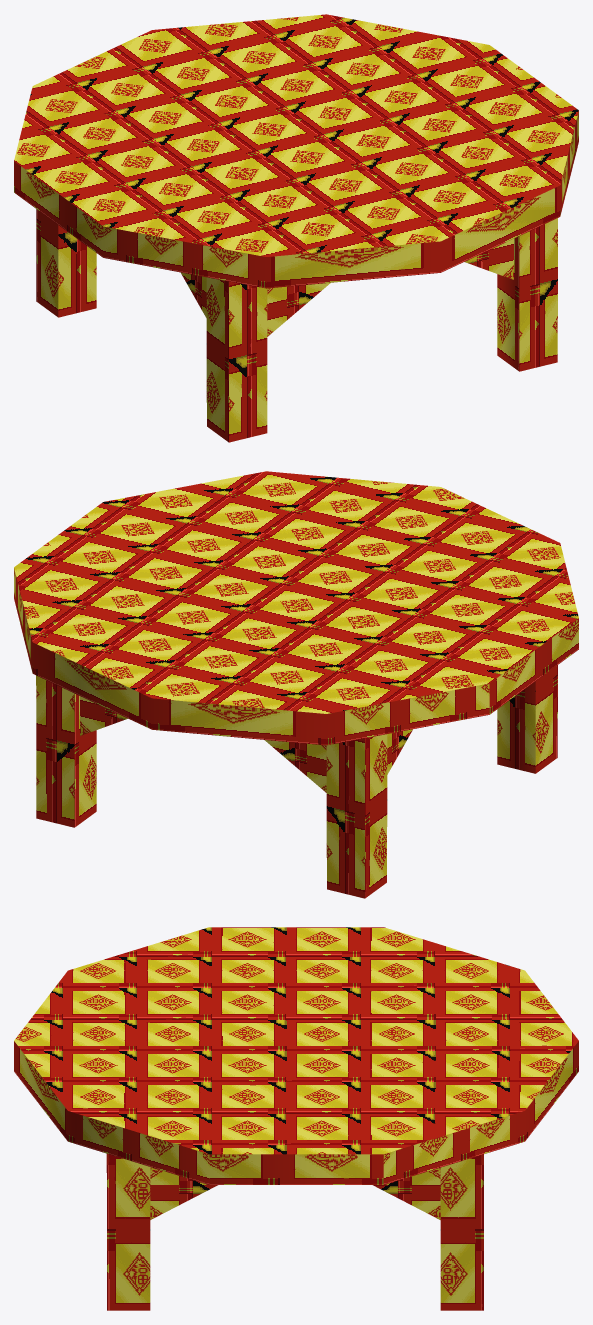
The picture shows the model from 3 angles, top to bottom: view 1: azimuth 30°, elevation 25°; view 2: azimuth 150°, elevation 25°; view 3: azimuth 270°, elevation 25°; orthographic projection. The views are drawn at different scales.
Visible parts, largest first — view 1: 3590kg_09_ta0; view 2: 3590kg_09_ta0; view 3: 3590kg_09_ta0.
Part boxes in pixels (<box>): 3590kg_09_ta0: <box>14,14,578,442</box>; 3590kg_09_ta0: <box>14,471,578,898</box>; 3590kg_09_ta0: <box>14,927,578,1310</box>.
Size of the model in its own units: 1.91 by 0.75 by 2.
1 material, 1 textured.
